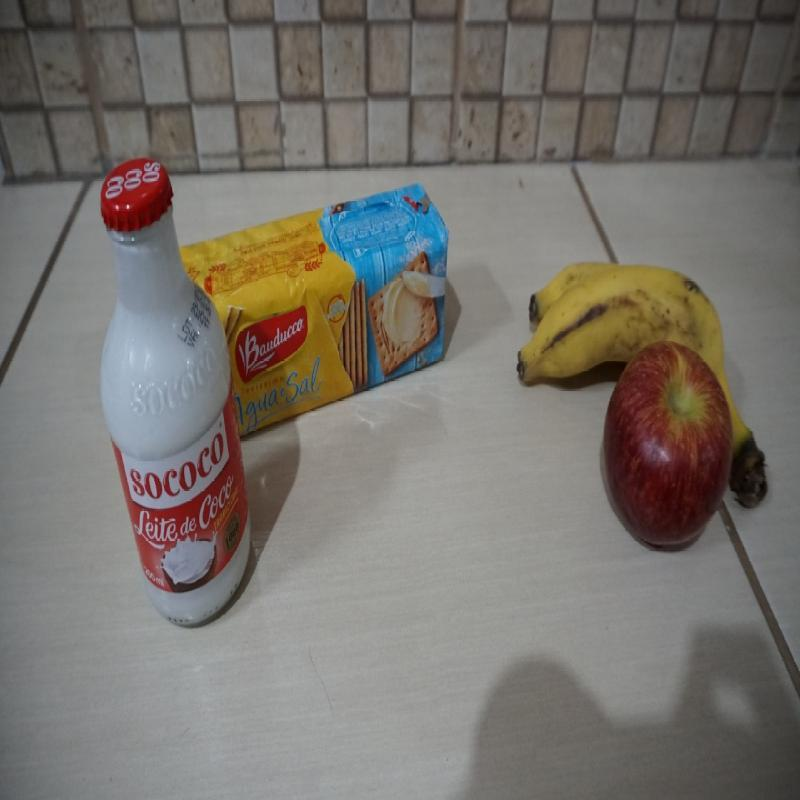Apple: (602, 339, 734, 552)
Banana: (516, 261, 725, 383)
Coconut Milk: (97, 155, 252, 630)
Cracker: (182, 179, 452, 440)
